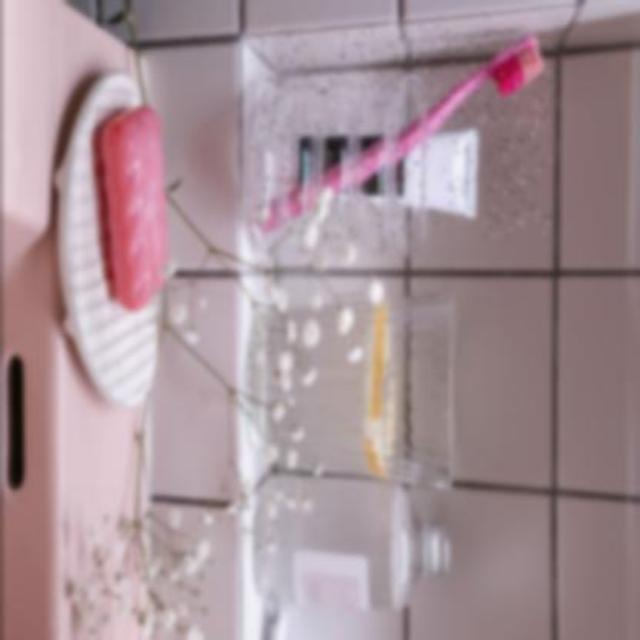toothbrush: (250, 27, 550, 237)
